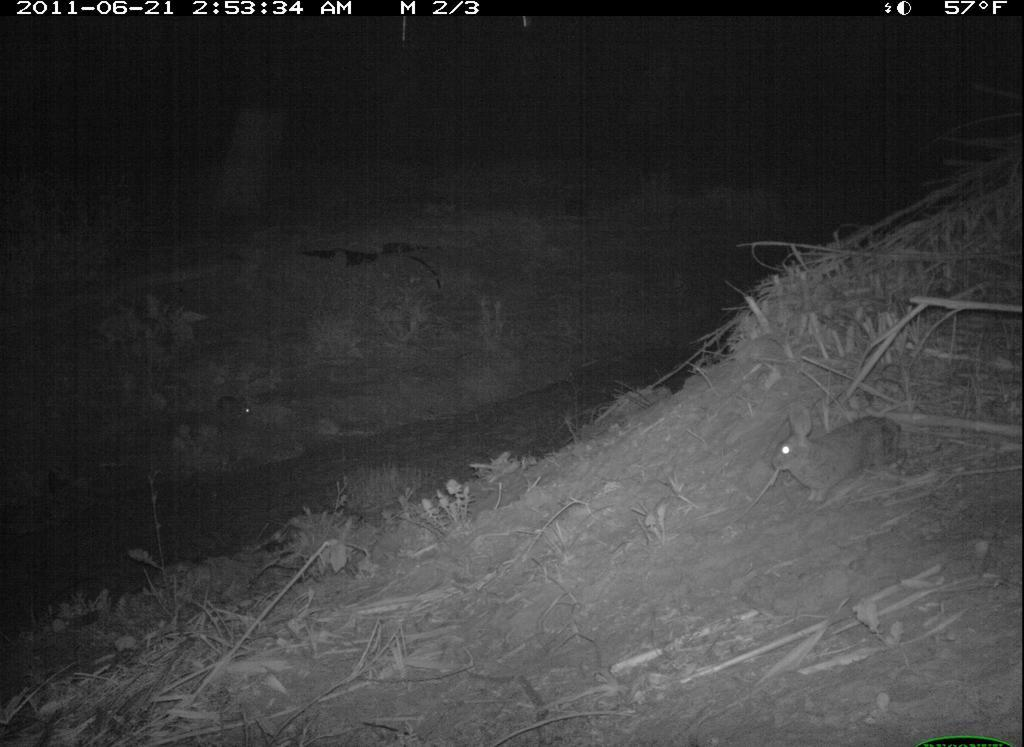rabbit: (766, 395, 912, 509), (214, 392, 253, 420)
